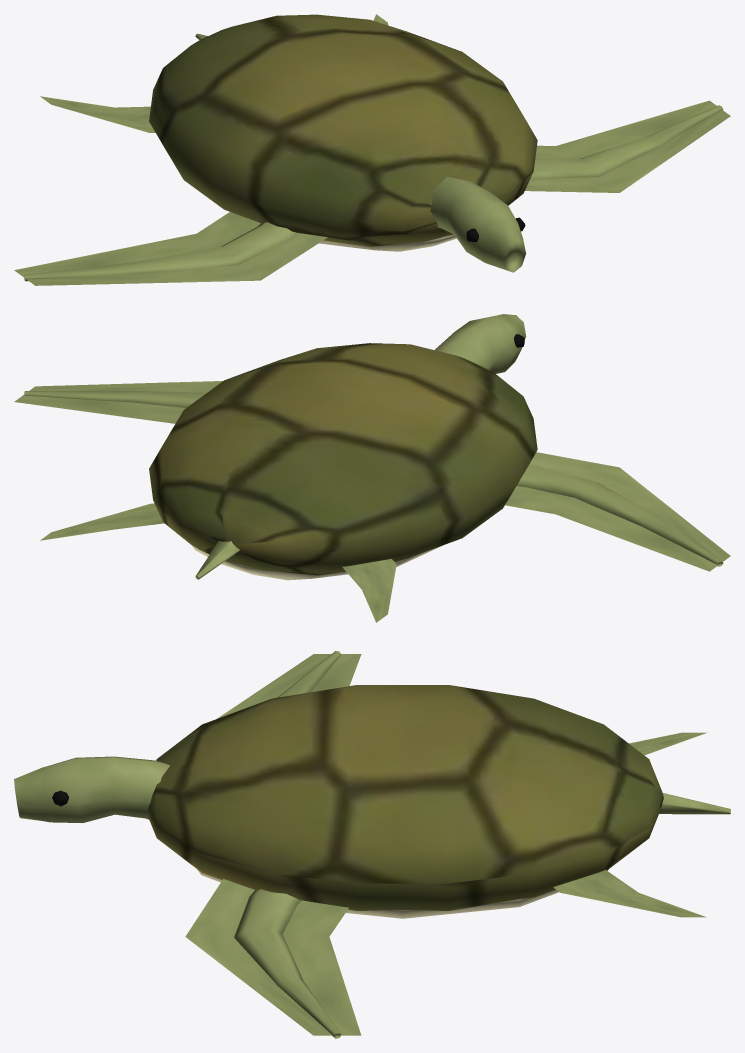
File: green_sea_turtle.glb
3 views of the same model, one above another, from view 1: azimuth 30°, elevation 25°; view 2: azimuth 150°, elevation 25°; view 3: azimuth 270°, elevation 25° (orthographic). The views are drawn at different scales.
Size of the model in its own units: 1.24 by 0.2352 by 0.9848.
1 material, 1 textured.
